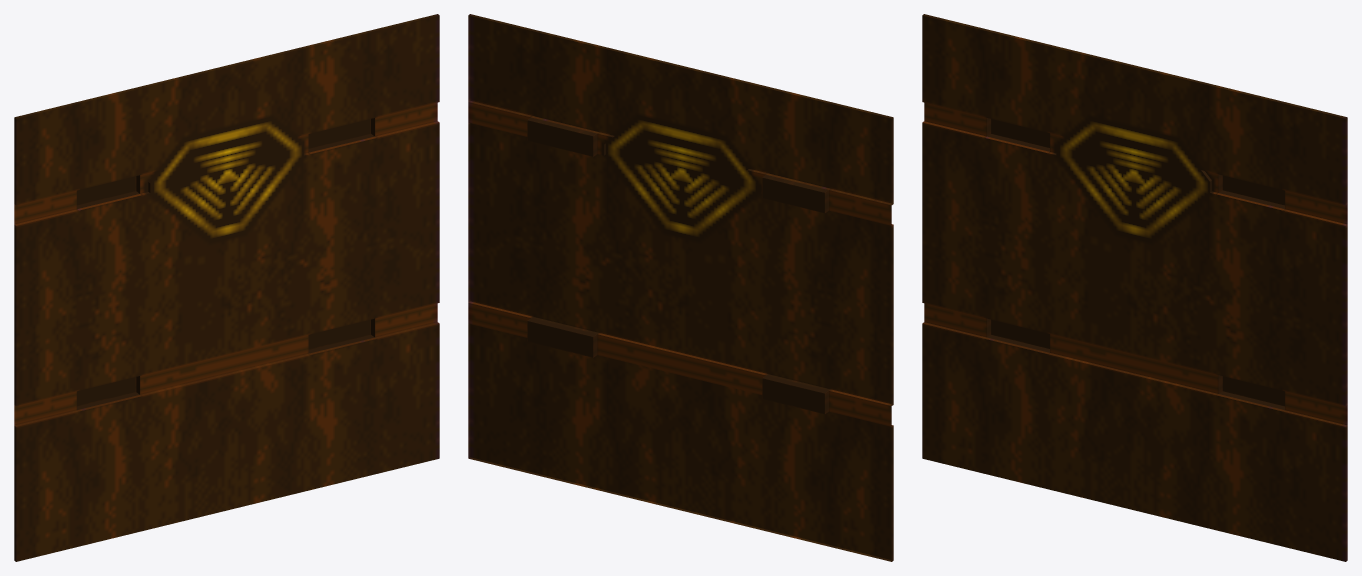
The model's file is exec2_3.fbx.
3 views of the same model, side by side, from view 1: azimuth 30°, elevation 25°; view 2: azimuth 150°, elevation 25°; view 3: azimuth 330°, elevation 25° (orthographic).
Parts seen in each view (by area): view 1: exec2_3_mesh; view 2: exec2_3_mesh; view 3: exec2_3_mesh.
Boxes of the visible parts, x1,y1,x2,y2 form: exec2_3_mesh: (14, 14, 439, 561); exec2_3_mesh: (468, 14, 893, 561); exec2_3_mesh: (922, 14, 1347, 561).
Bounding box in the file's own units: 256 × 256 × 6.
